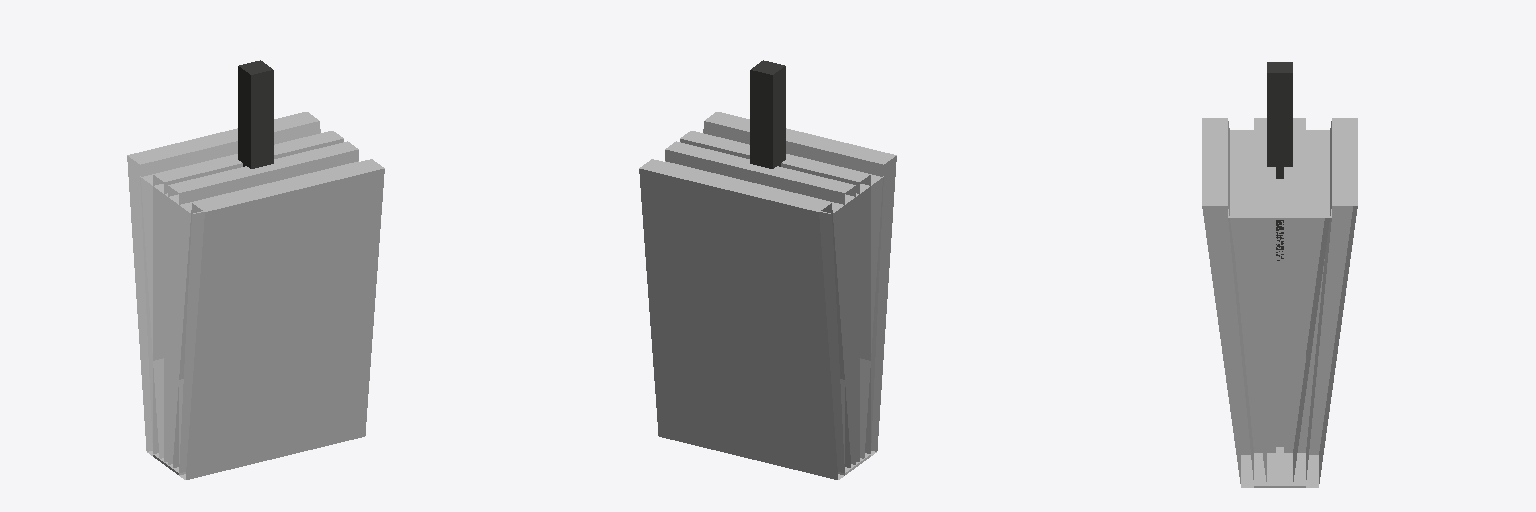
The picture shows the model from 3 angles: view 1: azimuth 30°, elevation 25°; view 2: azimuth 150°, elevation 25°; view 3: azimuth 270°, elevation 25°; orthographic projection.
Visible parts, largest first — view 1: main, pole, sideb, sidea; view 2: main, pole, sideb, sidea; view 3: sidea, main, pole.
Boxes of the visible parts, x1,y1,x2,y2 form: main: [127, 112, 384, 479]; pole: [238, 60, 273, 168]; sideb: [197, 134, 294, 451]; sidea: [217, 128, 316, 454]; main: [639, 112, 896, 479]; pole: [750, 60, 785, 168]; sideb: [730, 136, 825, 451]; sidea: [707, 128, 805, 450]; sidea: [1204, 164, 1357, 454]; main: [1202, 118, 1357, 487]; pole: [1267, 62, 1292, 260].
Size of the model in its own units: 0.5 by 1 by 0.375.
5 materials, 1 textured.